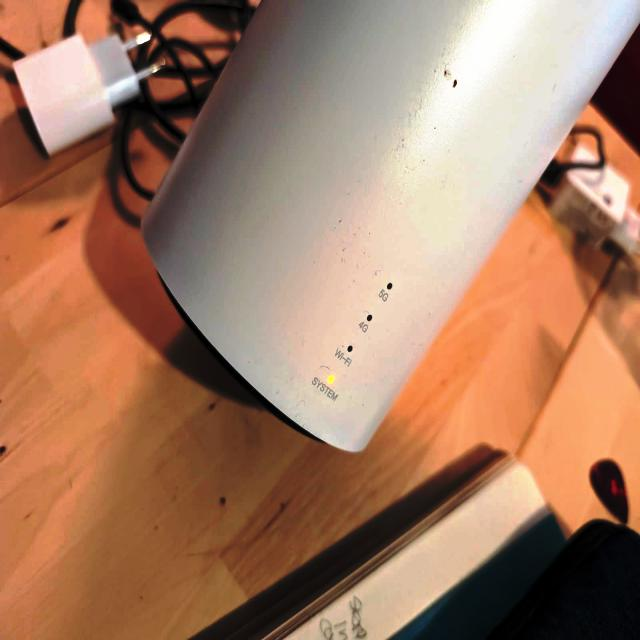modem: (136, 0, 640, 457)
off: (340, 339, 360, 362), (382, 274, 397, 298), (364, 310, 379, 331)
orange: (320, 367, 341, 397)
